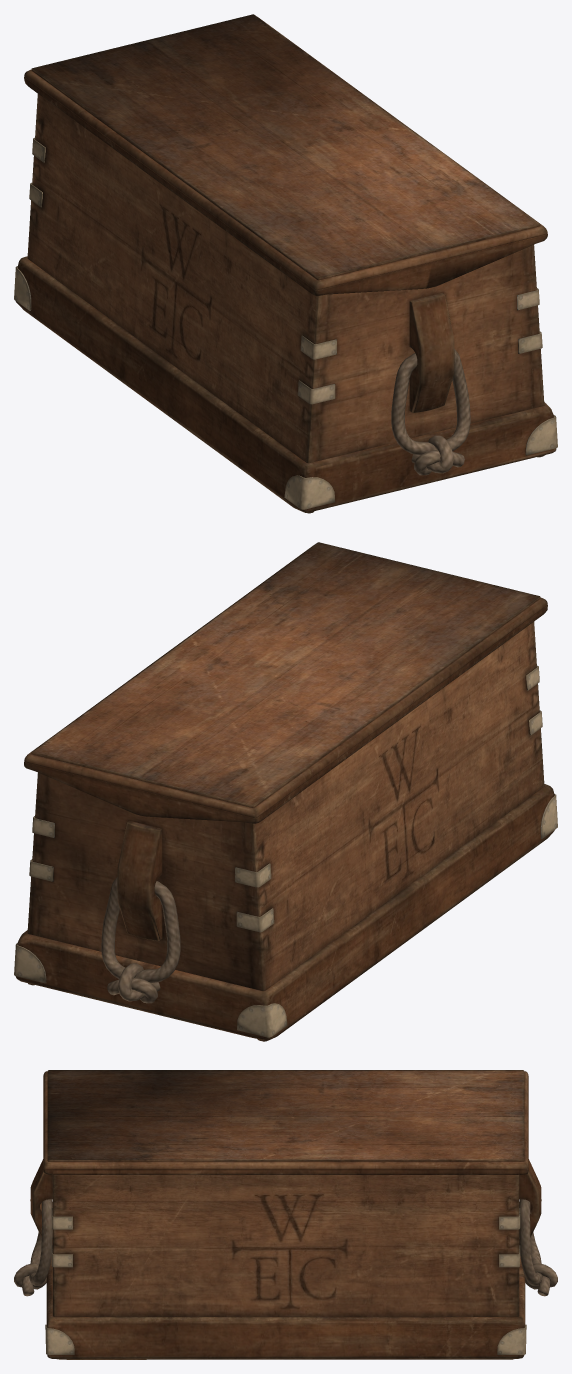
Rendered from wooden_crate_02_low.glb.
3 views of the same model, one above another, from view 1: azimuth 30°, elevation 25°; view 2: azimuth 150°, elevation 25°; view 3: azimuth 270°, elevation 25° (orthographic). The views are drawn at different scales.
Visible parts, largest first — view 1: wooden_crate_02_crate, wooden_crate_02_lid; view 2: wooden_crate_02_crate, wooden_crate_02_lid; view 3: wooden_crate_02_crate, wooden_crate_02_lid.
Part boxes in pixels (x1,y1,x2,y2): wooden_crate_02_crate: (14, 94, 557, 513); wooden_crate_02_lid: (24, 14, 547, 296); wooden_crate_02_crate: (14, 621, 557, 1041); wooden_crate_02_lid: (24, 542, 547, 823); wooden_crate_02_crate: (14, 1159, 557, 1359); wooden_crate_02_lid: (43, 1070, 528, 1174).
Size of the model in its own units: 0.5291 by 0.464 by 1.17.
1 material, 1 textured.
